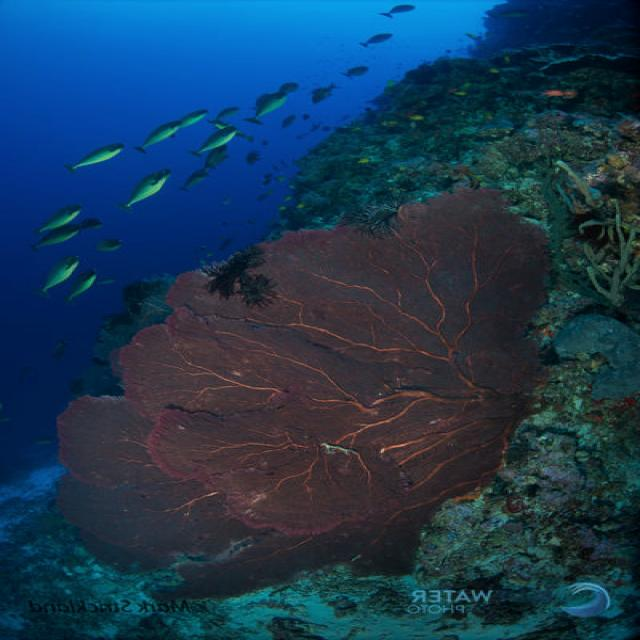Coral: (55, 185, 552, 603)
